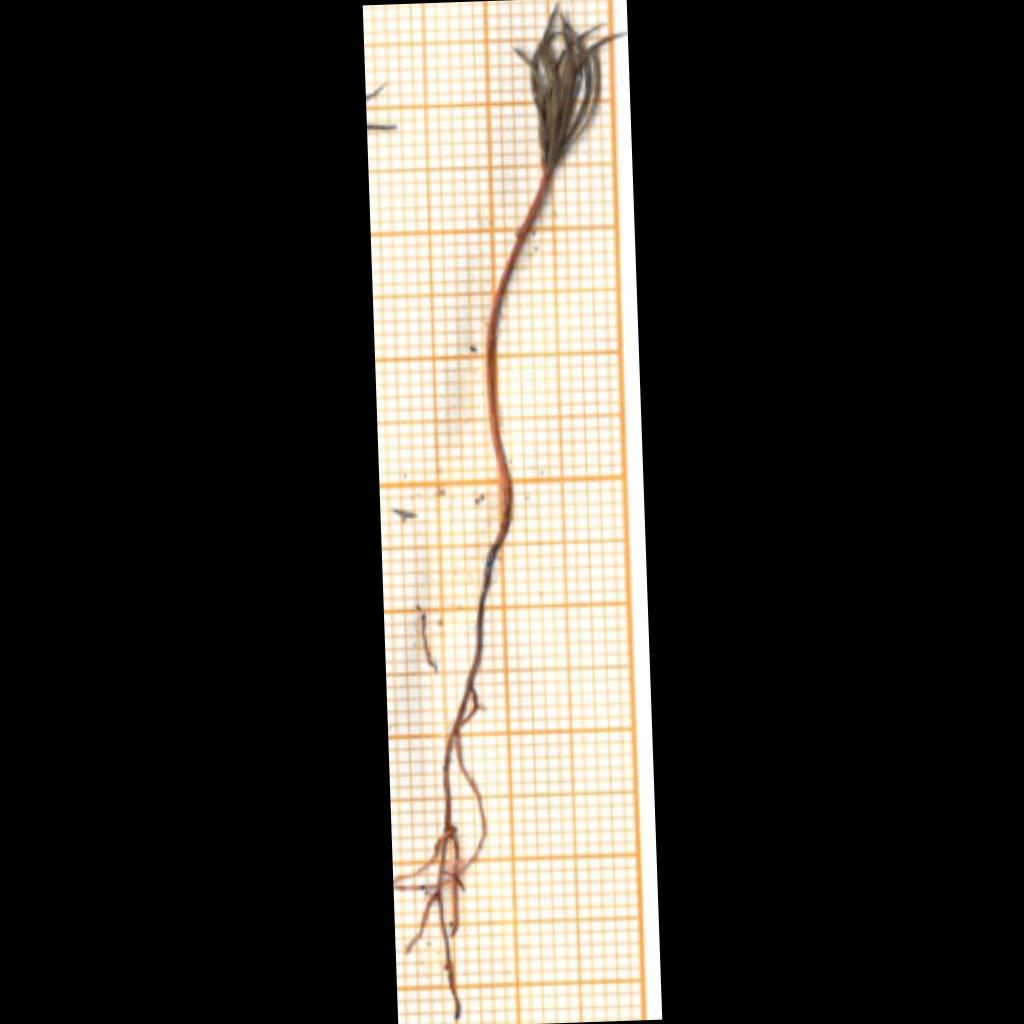rootPinus: (408, 520, 509, 1020)
stemCedr: (515, 8, 623, 172)
stemPinus: (485, 166, 548, 516)
